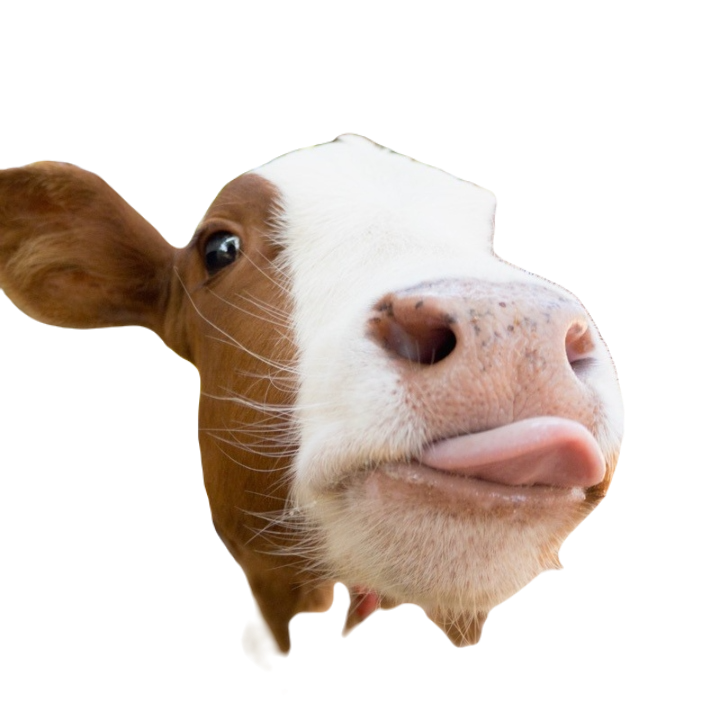Cow: (2, 131, 637, 659)
